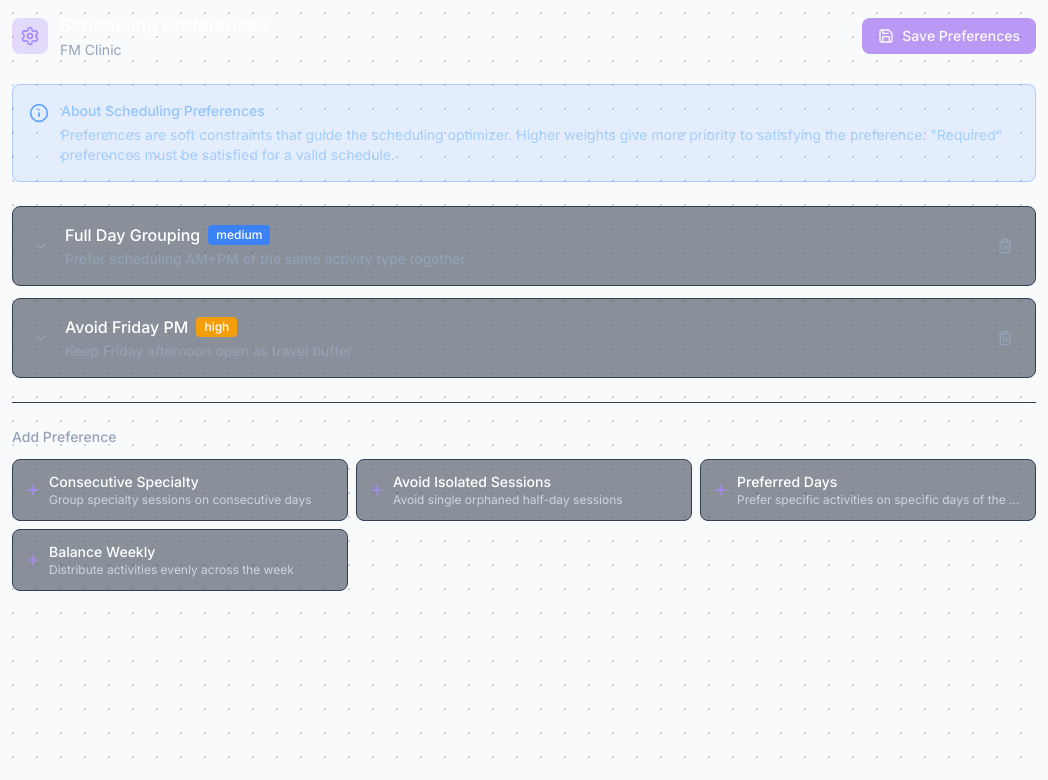
Test: PreferenceEditor › Removing Preferences › shows unsaved changes when delete clicked
// Find delete buttons and click the first one
Click the 1st button titled "Delete preference". click: (1005, 246)
box: [991,232,1019,260]
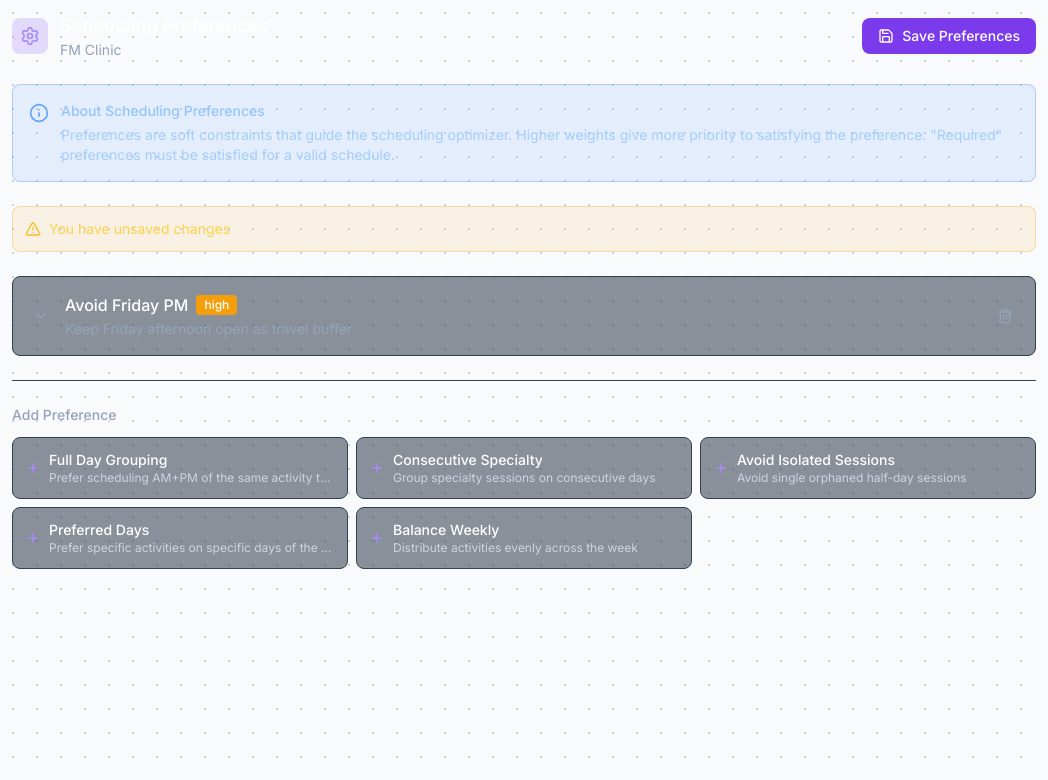
Check: the text "You have unsaved changes" is shown, box [49,219,230,239]
